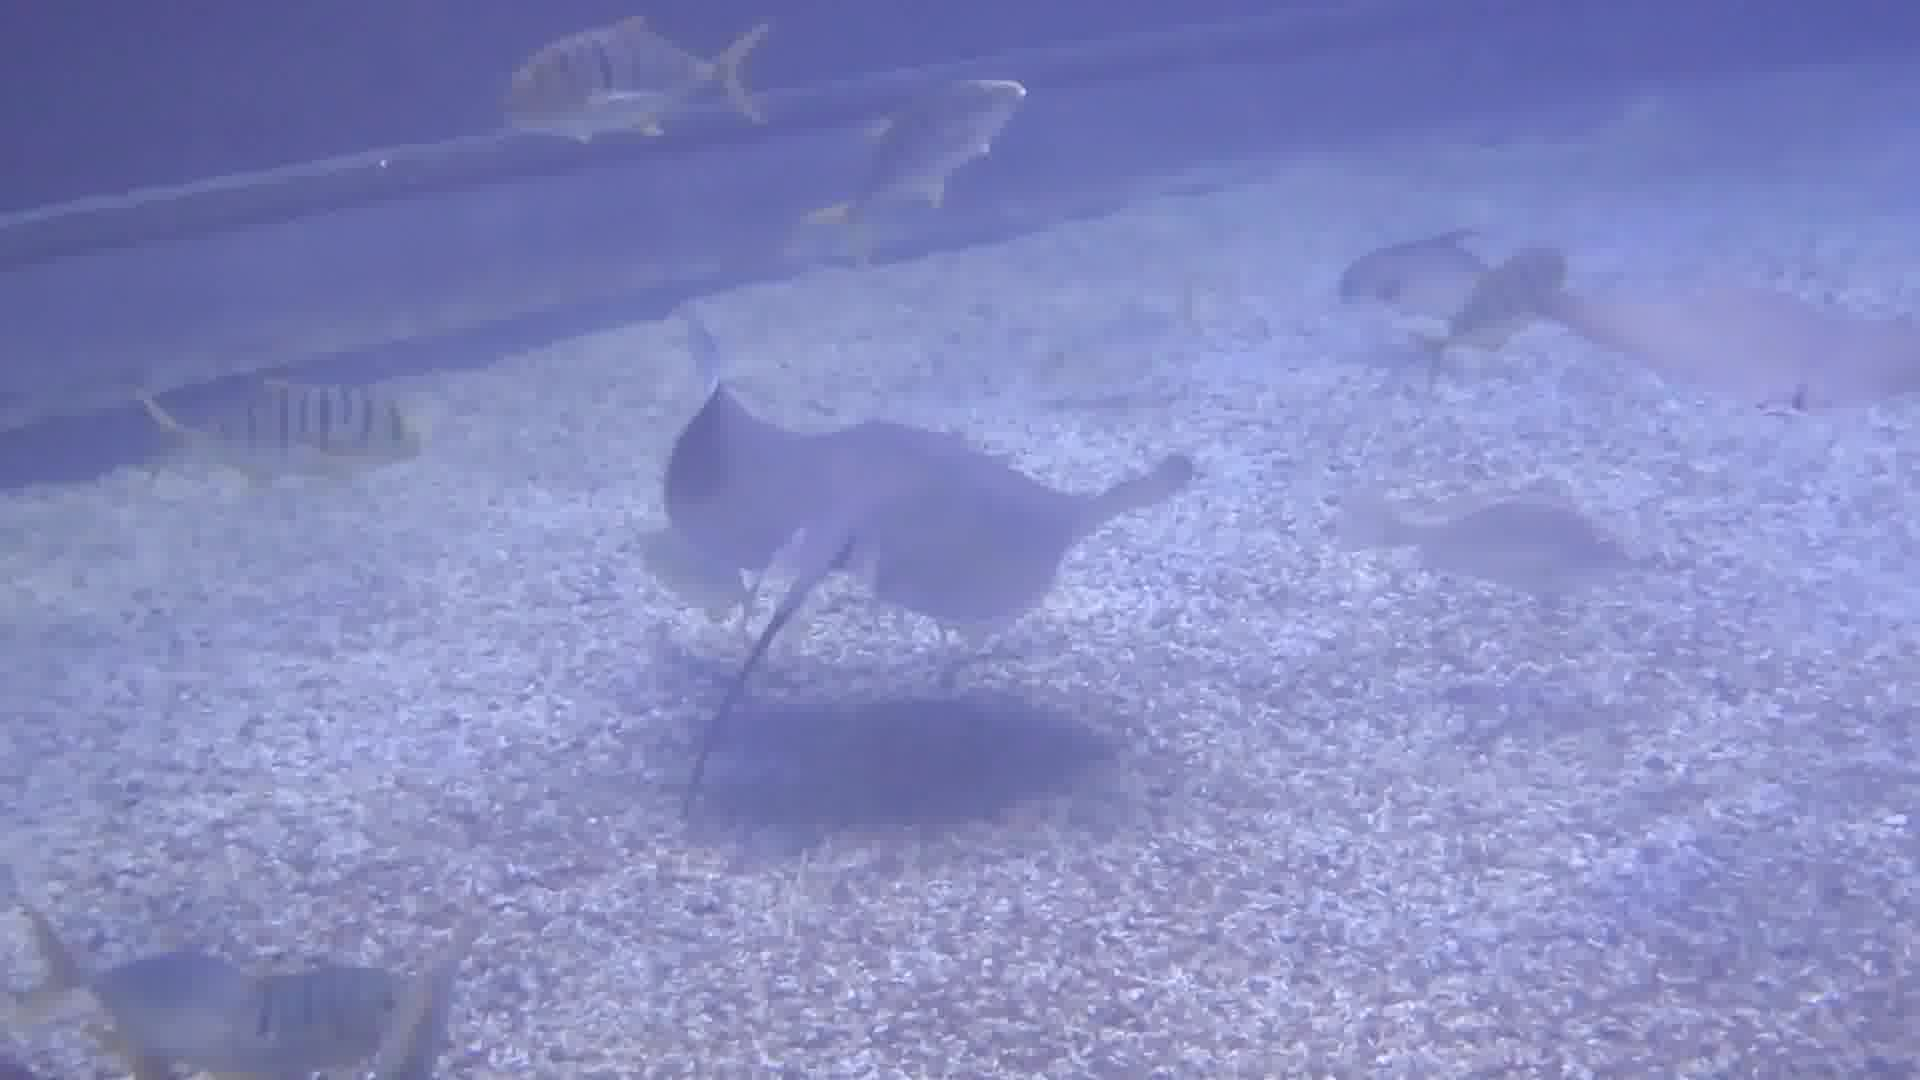Dasyatis akajei: (524, 306, 1215, 796)
